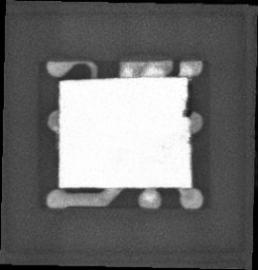DIE_BROKEN: (180, 79, 193, 118)
